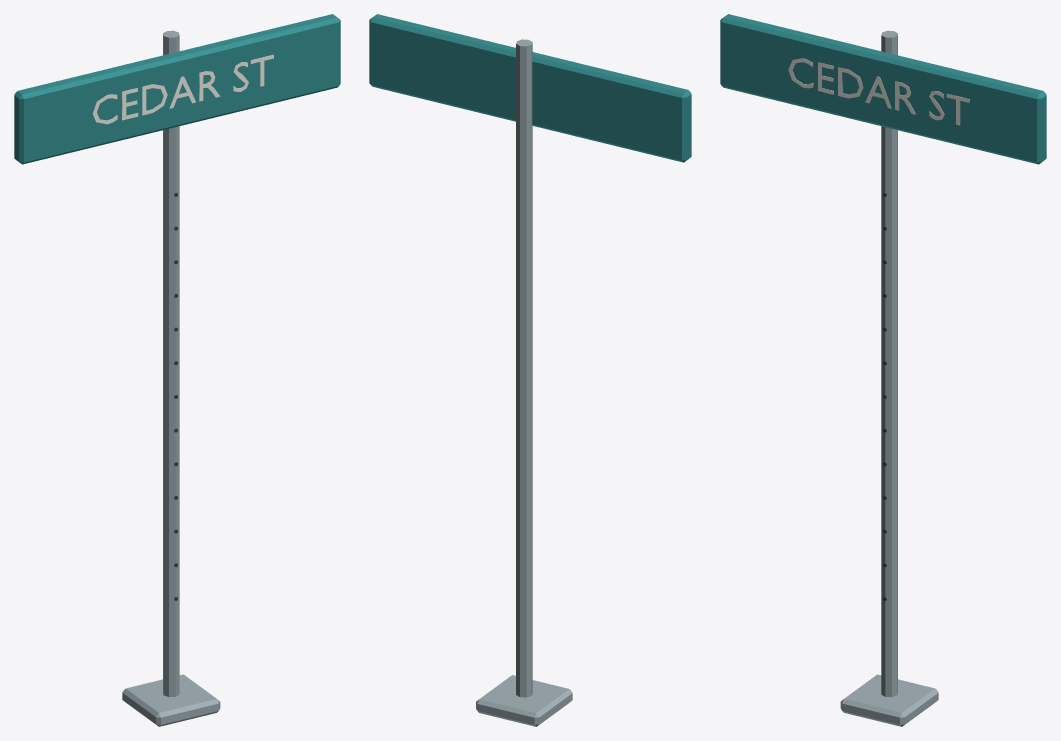
File: Sign_Street_Name.glb
3 views of the same model, side by side, from view 1: azimuth 30°, elevation 25°; view 2: azimuth 150°, elevation 25°; view 3: azimuth 330°, elevation 25° (orthographic).
Visible parts, largest first — view 1: Sign_Street_Name; view 2: Sign_Street_Name; view 3: Sign_Street_Name.
Part boxes in pixels (x1,y1,x2,y2): Sign_Street_Name: (14, 14, 340, 726); Sign_Street_Name: (369, 14, 691, 726); Sign_Street_Name: (720, 14, 1046, 726).
Size of the model in its own units: 1.2 by 2.4 by 0.24.
